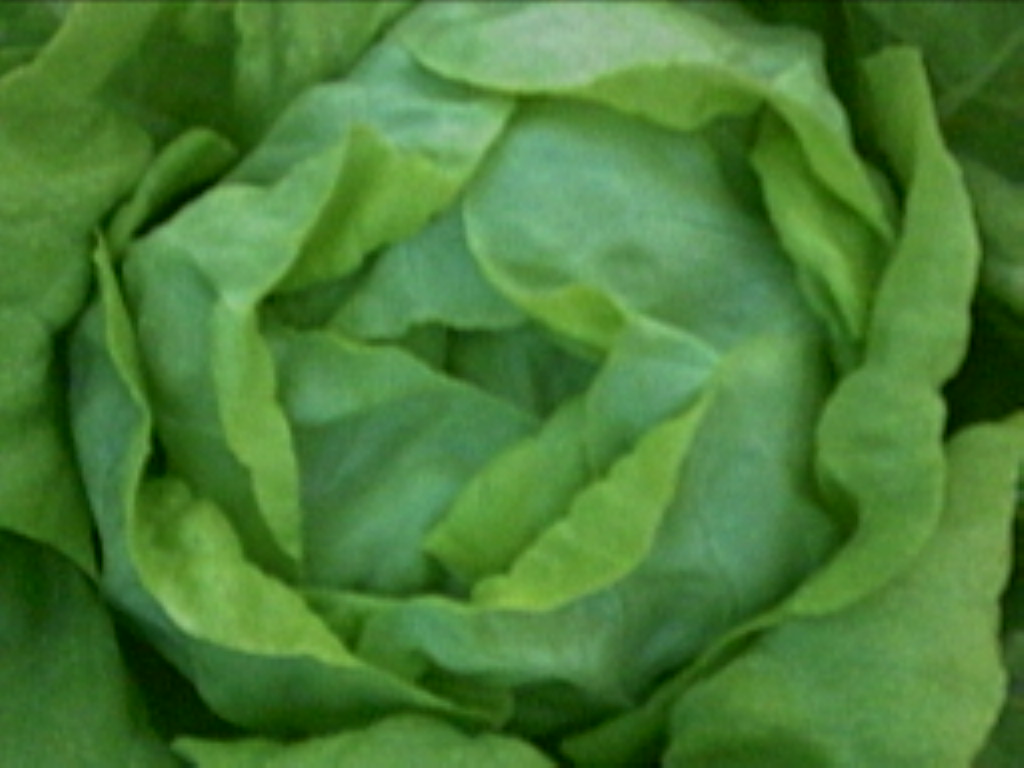cabbage: (0, 0, 1022, 766)
